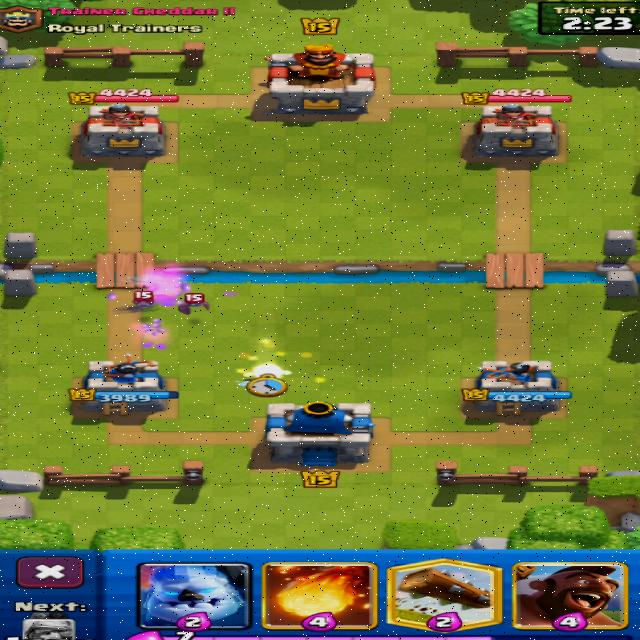Enemy-Bat: (178, 294, 208, 314), (133, 289, 153, 308)
Enemy-KingTower: (268, 44, 374, 113)
Enemy-PrincessTower: (82, 103, 163, 156), (474, 104, 556, 156)
Player-IceSpirit: (243, 364, 291, 377)
Player-KingTower: (266, 401, 373, 466)
Player-PrincessTower: (69, 354, 178, 415), (463, 360, 570, 415)
